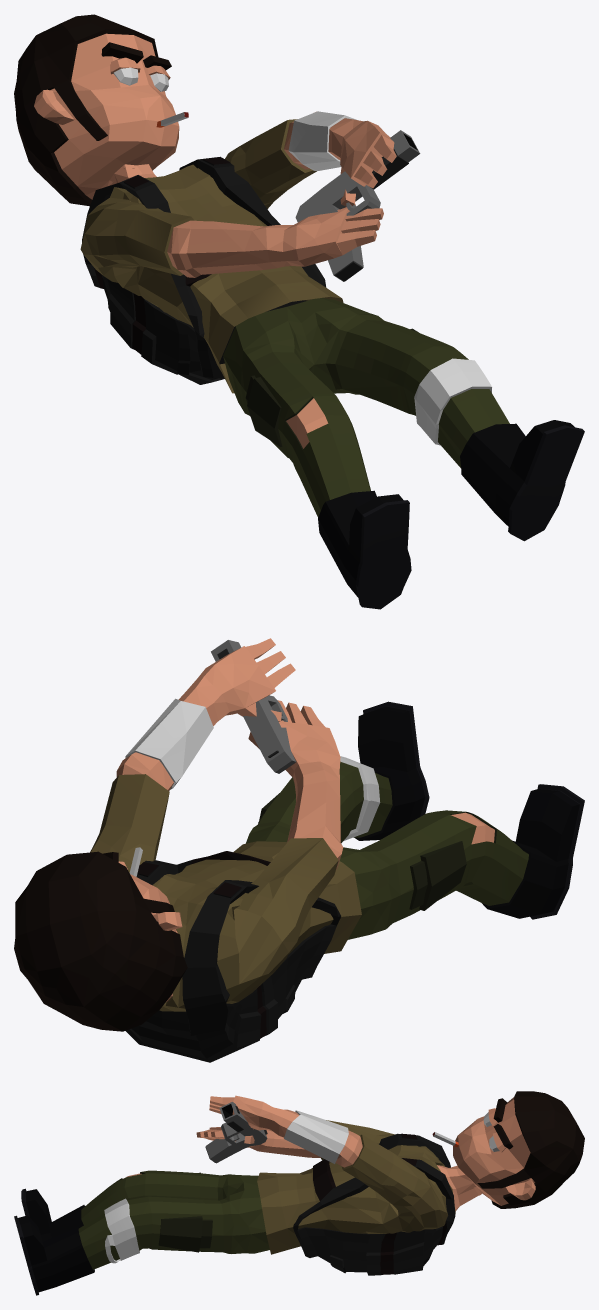
The model's file is frame_0106.obj.
3 views of the same model, one above another, from view 1: azimuth 30°, elevation 25°; view 2: azimuth 150°, elevation 25°; view 3: azimuth 270°, elevation 25° (orthographic). The views are drawn at different scales.
Visible parts, largest first — view 1: Body, Gun; view 2: Body, Gun; view 3: Body, Gun.
Part boxes in pixels (x1,y1,x2,y2): Body: (14,14,584,609); Gun: (295,130,420,281); Body: (14,638,584,1062); Gun: (211,640,295,773); Body: (14,1091,584,1295); Gun: (205,1102,267,1163).
Size of the model in its own units: 1.22 by 1.81 by 4.15.
